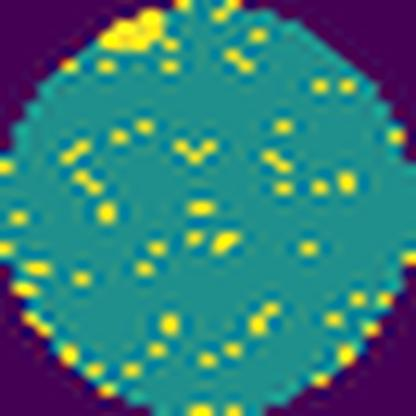Edge-Loc: (92, 8, 163, 59)
